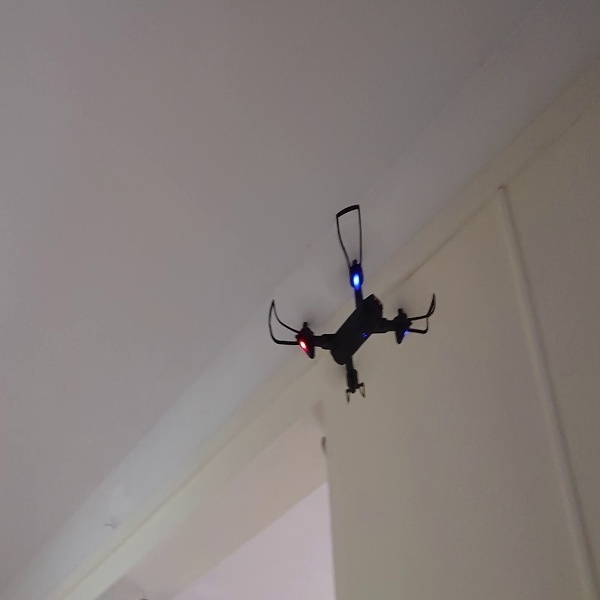drone: (266, 200, 438, 404)
